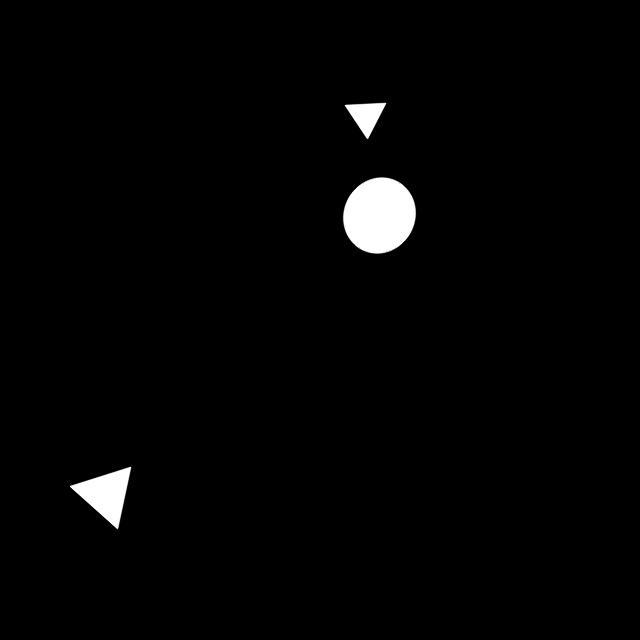Circle: (336, 168, 422, 263)
Triangle: (60, 449, 148, 546), (333, 93, 400, 153)
